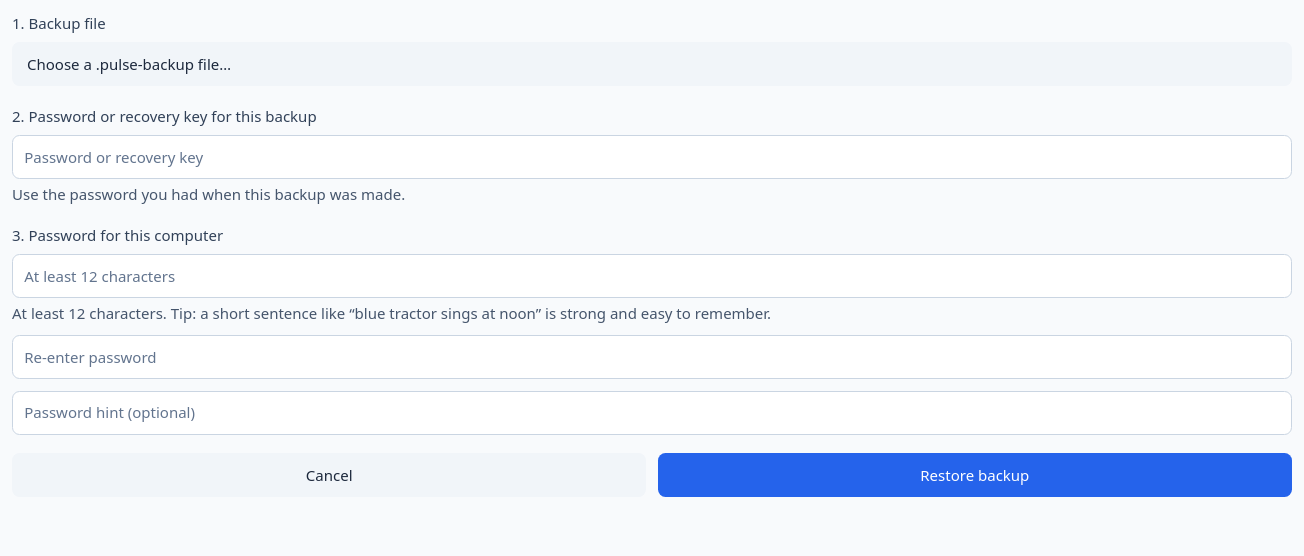
it: RestoreFromBackupForm › the Restore button says what is missing instead of sitting greyed out
The width and height of the screenshot is (1304, 556).
Click the button "Restore backup". click: coordinates (975, 475)
box: [658,453,1292,497]
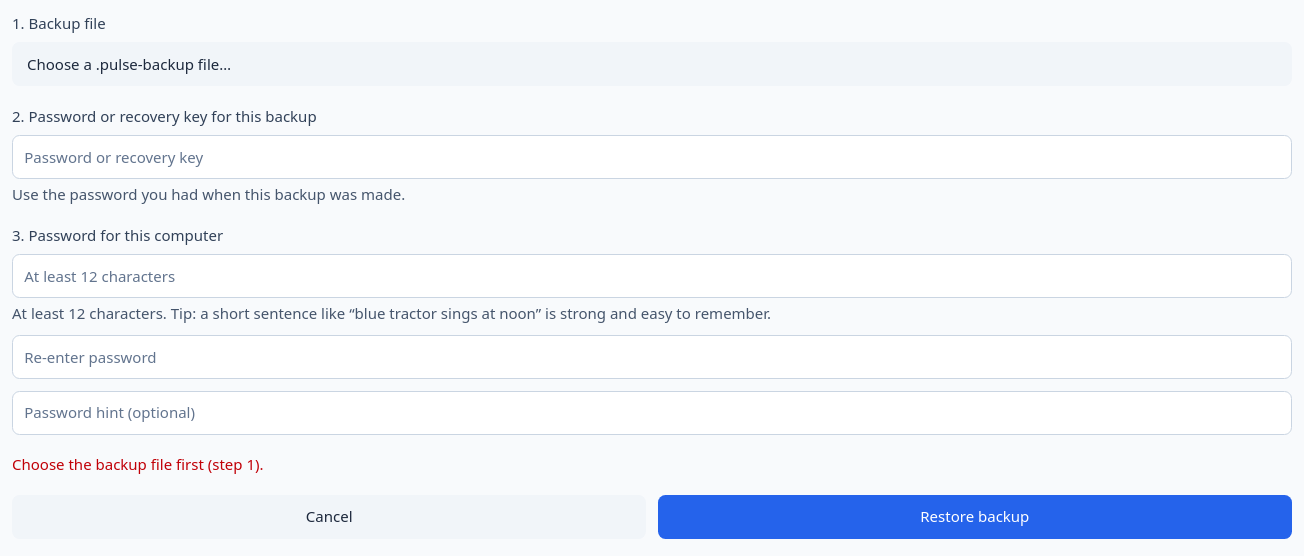
Check: the message shows "Choose the backup file first", box [12,454,264,474]
